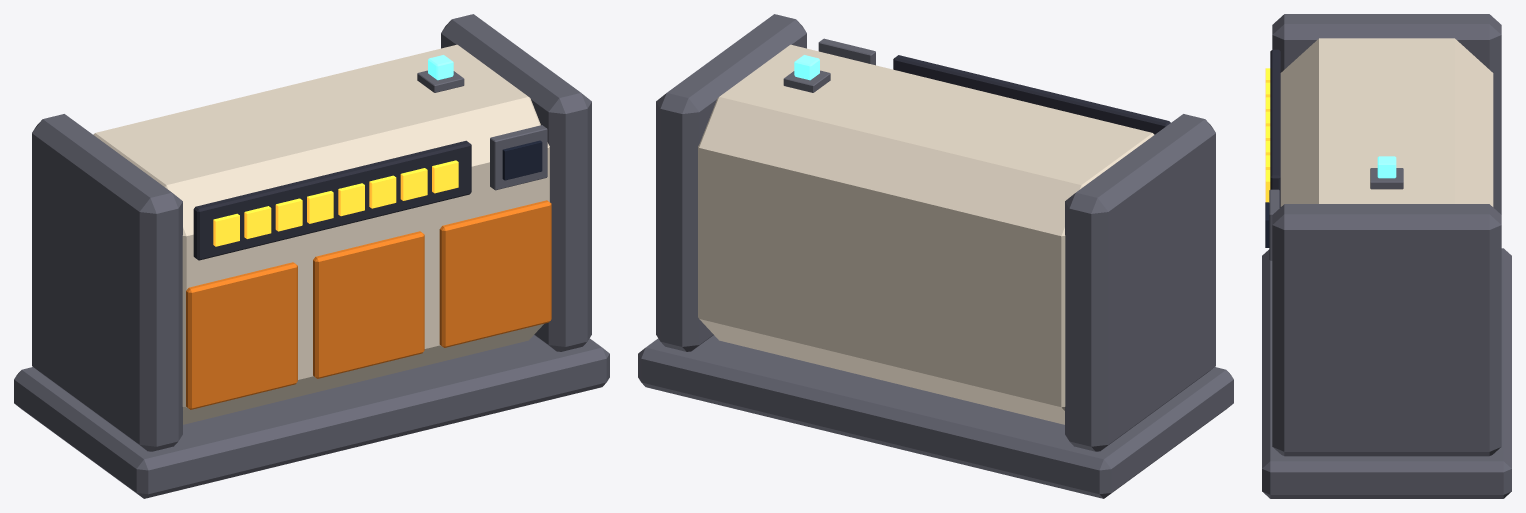
Rendered from asset.glb.
The picture shows the model from 3 angles, left to right: view 1: azimuth 30°, elevation 25°; view 2: azimuth 150°, elevation 25°; view 3: azimuth 270°, elevation 25°; orthographic projection. The views are drawn at different scales.
Visible parts, largest first — view 1: Mesh_end armor (×2), Mesh_cabinet, Mesh_orange access panel (×3), Mesh_plinth, Mesh_charge surround, Mesh_screen bezel, Mesh_screen, Mesh_charge_segment_6, Mesh_charge_segment_2, Mesh_charge_segment_3, Mesh_charge_segment_7, Mesh_charge_segment_1 (+4 smaller); view 2: Mesh_cabinet, Mesh_end armor (×2), Mesh_plinth, Mesh_charge surround, Mesh_screen bezel, Mesh_beacon base; view 3: Mesh_end armor (×2), Mesh_cabinet, Mesh_plinth, Mesh_charge surround, Mesh_beacon base, Mesh_beacon, Mesh_screen bezel.
Boxes of the visible parts, x1,y1,x2,y2 form: Mesh_end armor (×2): (32, 14, 591, 451); Mesh_cabinet: (93, 44, 549, 424); Mesh_orange access panel (×3): (186, 200, 551, 409); Mesh_plinth: (14, 335, 609, 498); Mesh_charge surround: (193, 140, 471, 260); Mesh_screen bezel: (490, 125, 547, 190); Mesh_screen: (502, 140, 542, 180); Mesh_charge_segment_6: (369, 175, 396, 208); Mesh_charge_segment_2: (244, 206, 271, 238); Mesh_charge_segment_3: (275, 198, 302, 231); Mesh_charge_segment_7: (400, 168, 427, 200); Mesh_charge_segment_1: (213, 213, 239, 246); Mesh_cabinet: (698, 44, 1154, 424); Mesh_end armor (×2): (656, 14, 1215, 451); Mesh_plinth: (638, 335, 1233, 498); Mesh_charge surround: (893, 55, 1170, 134); Mesh_screen bezel: (818, 38, 875, 65); Mesh_beacon base: (783, 70, 830, 92); Mesh_end armor (×2): (1272, 14, 1501, 456); Mesh_cabinet: (1280, 38, 1493, 206); Mesh_plinth: (1262, 248, 1511, 498); Mesh_charge surround: (1270, 49, 1280, 207); Mesh_beacon base: (1370, 168, 1403, 189); Mesh_beacon: (1377, 156, 1396, 178); Mesh_screen bezel: (1269, 189, 1279, 260).
Bounding box in the file's own units: 2.5 × 1.55 × 1.2.
